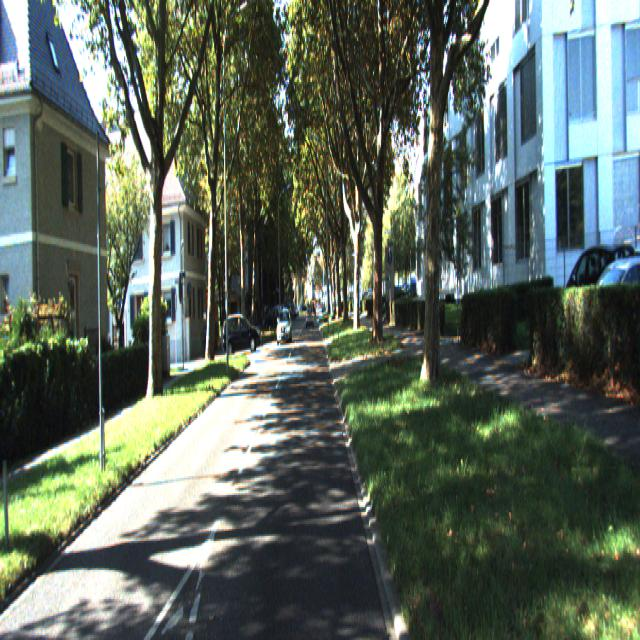Car: (222, 312, 261, 355), (275, 310, 292, 344)
